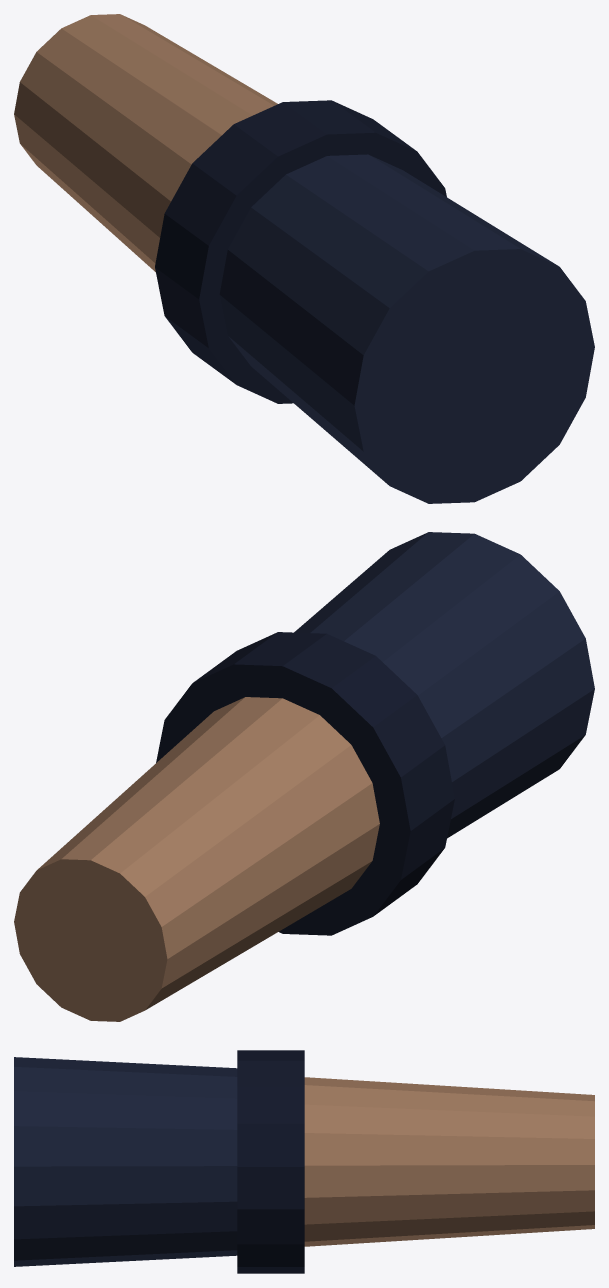
Rendered from forearm_right.glb.
The picture shows the model from 3 angles, top to bottom: view 1: azimuth 30°, elevation 25°; view 2: azimuth 150°, elevation 25°; view 3: azimuth 270°, elevation 25°; orthographic projection. The views are drawn at different scales.
Parts seen in each view (by area): view 1: forearm_right; view 2: forearm_right; view 3: forearm_right.
Part boxes in pixels (left/top/right/bottom): forearm_right: left=14, top=14, right=594, bottom=503; forearm_right: left=14, top=532, right=594, bottom=1021; forearm_right: left=14, top=1050, right=594, bottom=1273.
Size of the model in its own units: 0.1 by 0.1 by 0.26.
